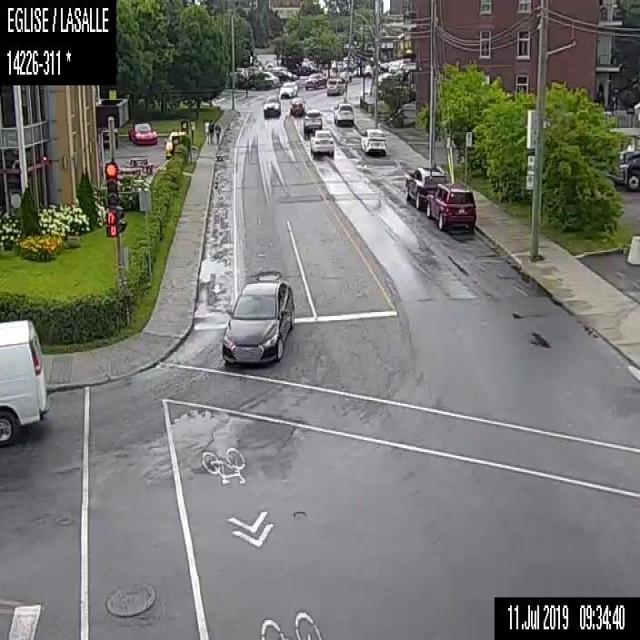pedestrian: (213, 120, 220, 144), (208, 118, 214, 144), (203, 116, 209, 141)
vehicle: (220, 265, 295, 364), (0, 317, 46, 446), (424, 182, 476, 232), (401, 162, 446, 208), (610, 134, 639, 192), (308, 125, 335, 158), (359, 124, 386, 156), (128, 119, 158, 144), (302, 109, 324, 138), (331, 101, 354, 127), (165, 130, 186, 158), (303, 68, 326, 90), (261, 94, 280, 120), (323, 73, 344, 95), (289, 95, 304, 116), (279, 80, 298, 96), (262, 70, 278, 88)
